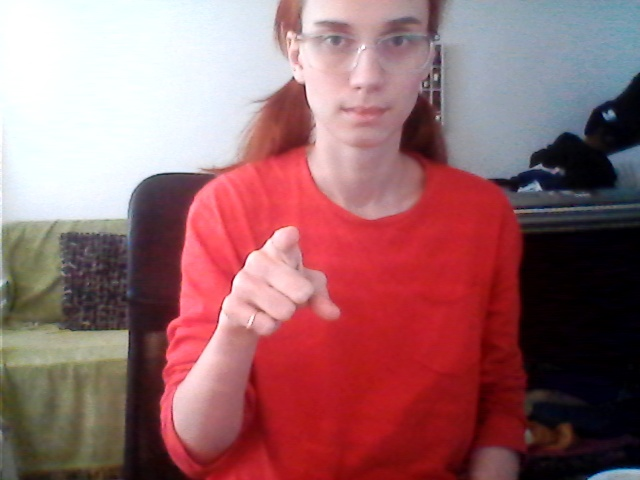ty: (206, 218, 352, 345)
